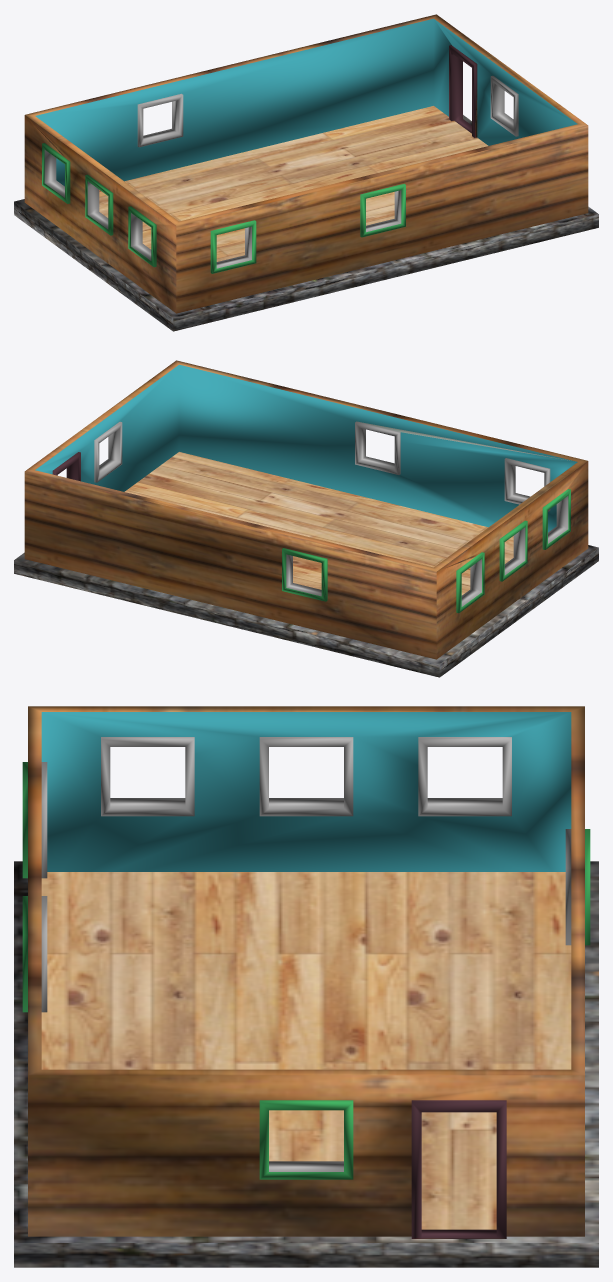
3 views of the same model, one above another, from view 1: azimuth 30°, elevation 25°; view 2: azimuth 150°, elevation 25°; view 3: azimuth 270°, elevation 25° (orthographic). The views are drawn at different scales.
Parts seen in each view (by area): view 1: 0frontwall_Cube.009, 0floor_Plane.006, 0base_Cube.006; view 2: 0frontwall_Cube.009, 0floor_Plane.006, 0base_Cube.006; view 3: 0frontwall_Cube.009, 0floor_Plane.006, 0base_Cube.006.
Part boxes in pixels (<box>): 0frontwall_Cube.009: <box>24,14,588,313</box>; 0floor_Plane.006: <box>99,106,488,261</box>; 0base_Cube.006: <box>14,115,598,331</box>; 0frontwall_Cube.009: <box>24,360,588,659</box>; 0floor_Plane.006: <box>124,452,513,595</box>; 0base_Cube.006: <box>14,545,598,677</box>; 0frontwall_Cube.009: <box>22,706,590,1238</box>; 0floor_Plane.006: <box>41,872,571,1229</box>; 0base_Cube.006: <box>14,861,598,1267</box>.
Size of the model in its own units: 11.39 by 2.59 by 7.38.
